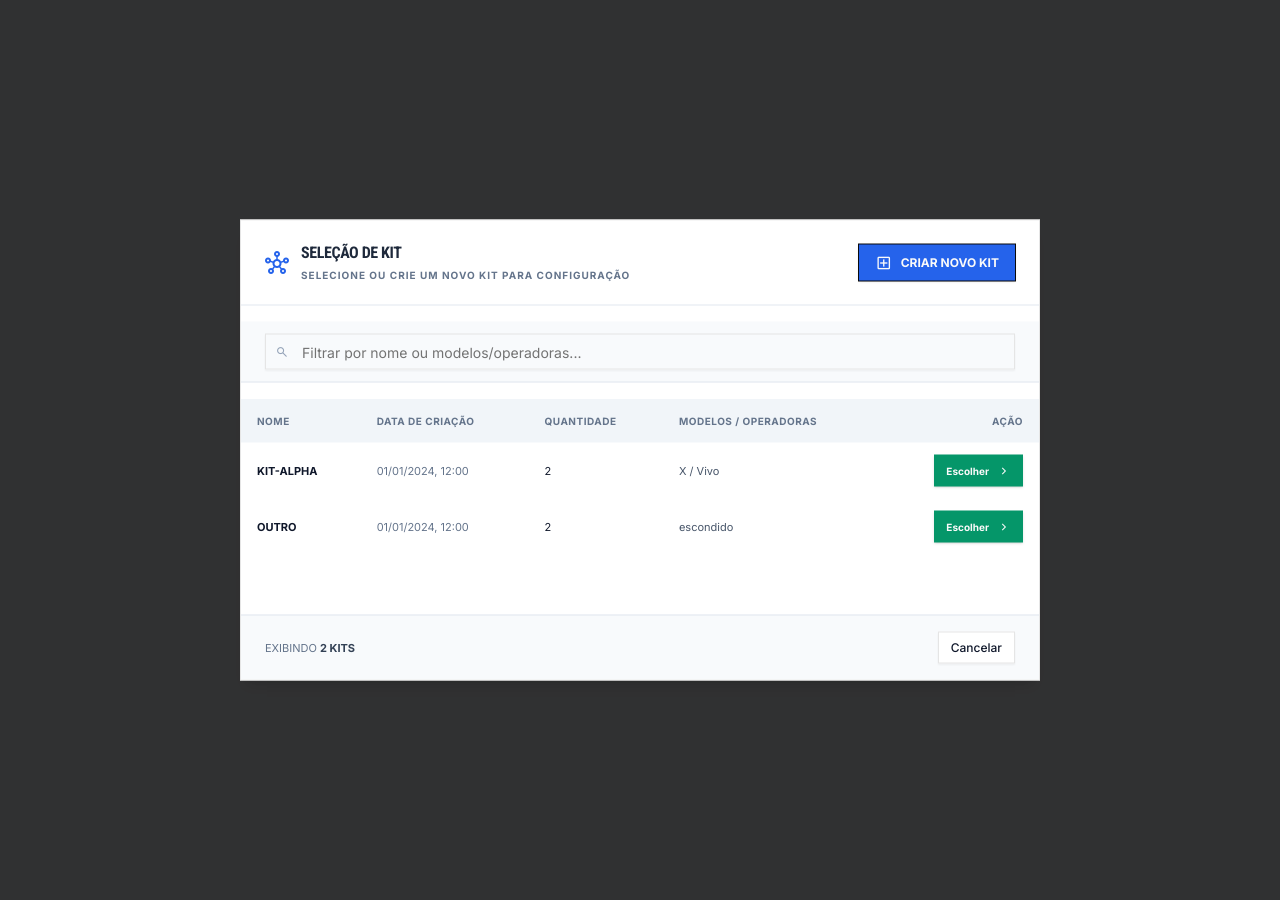
Test: ModalSelecaoEKit (integração ponta a ponta) › abre na seleção, filtra kits por texto e entra em edição ao escolher
Expected: the cell "KIT-ALPHA" is shown, [241,442,361,498]
In the field with placeholder "Filtrar por nome ou modelos/operadoras...": [640, 352] box [265,334,1015,370], type "ALPHA"
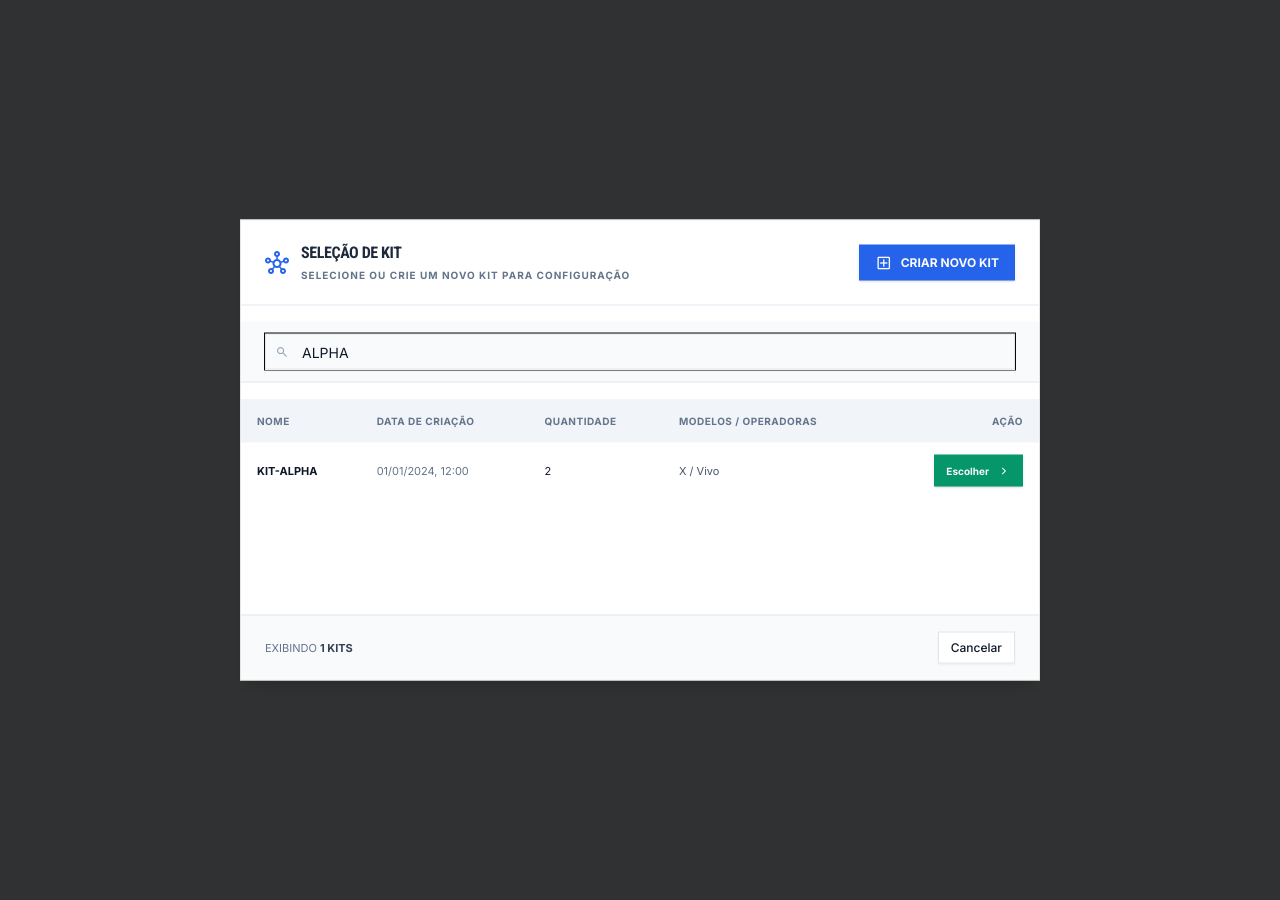
Expected: the cell "OUTRO" is gone
Click the button "Escolher": [979, 470] box [934,454,1023,486]
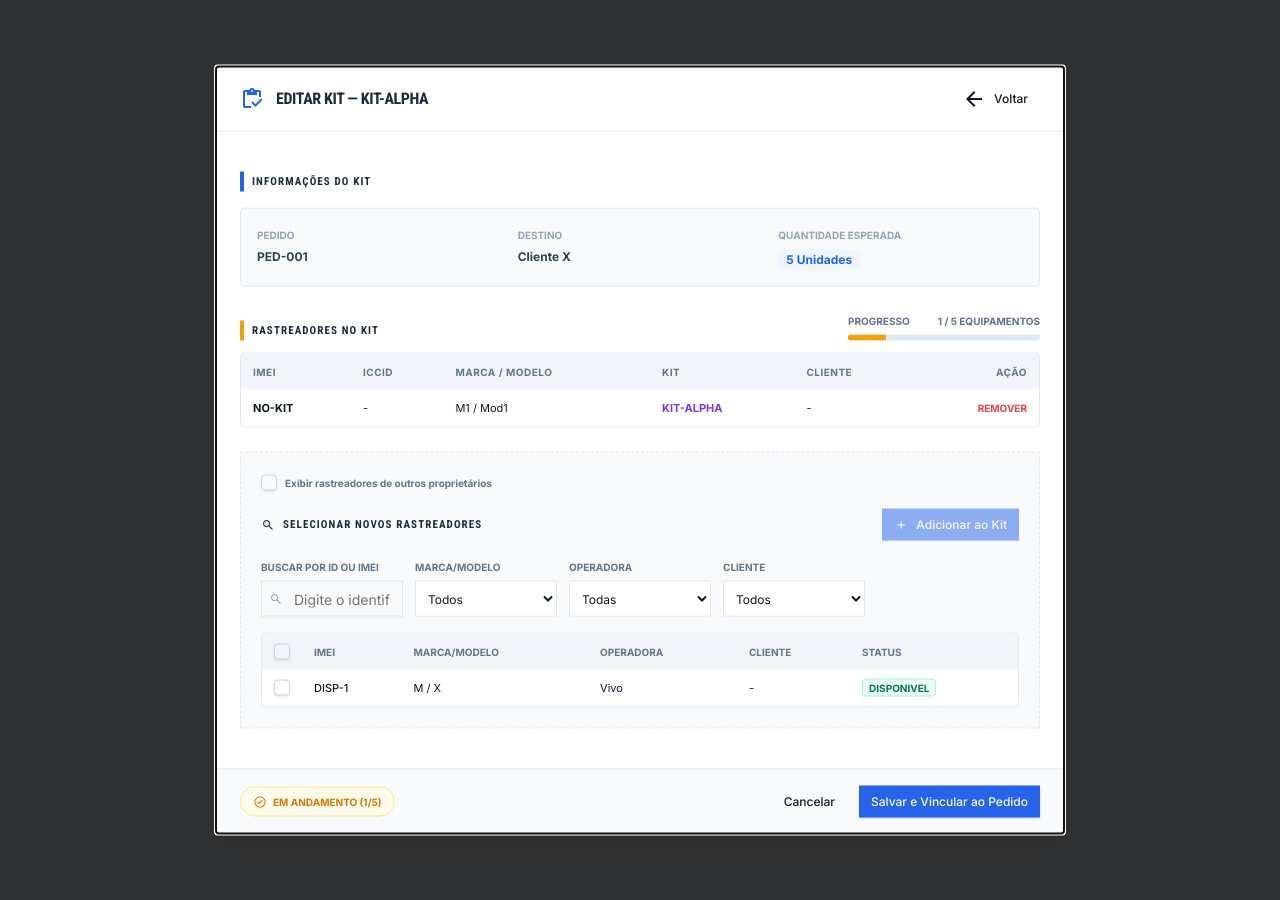
Expected: the heading "Editar Kit — KIT-ALPHA" is shown, [276,86,428,110]
Expected: the text "DISP-1" is shown, [302,670,402,706]
